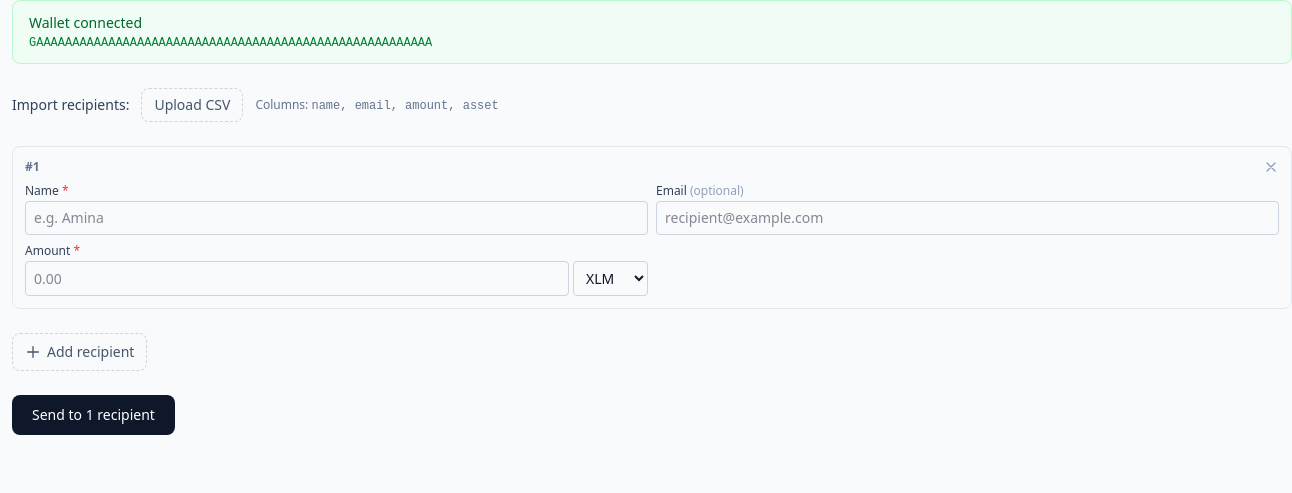
Test case: BatchSendForm › shows validation errors when submitting with empty fields
Step 1. Click the button "Send to 1 recipient" → (93, 415), box [12, 395, 175, 435]
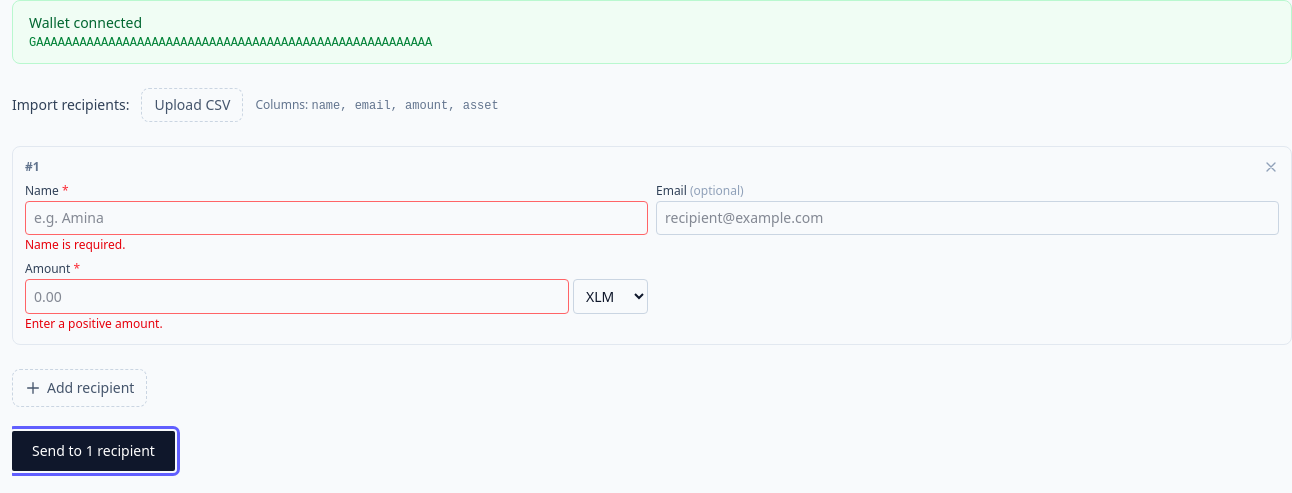
Now the text "Name is required." is shown, box [25, 236, 125, 253]
